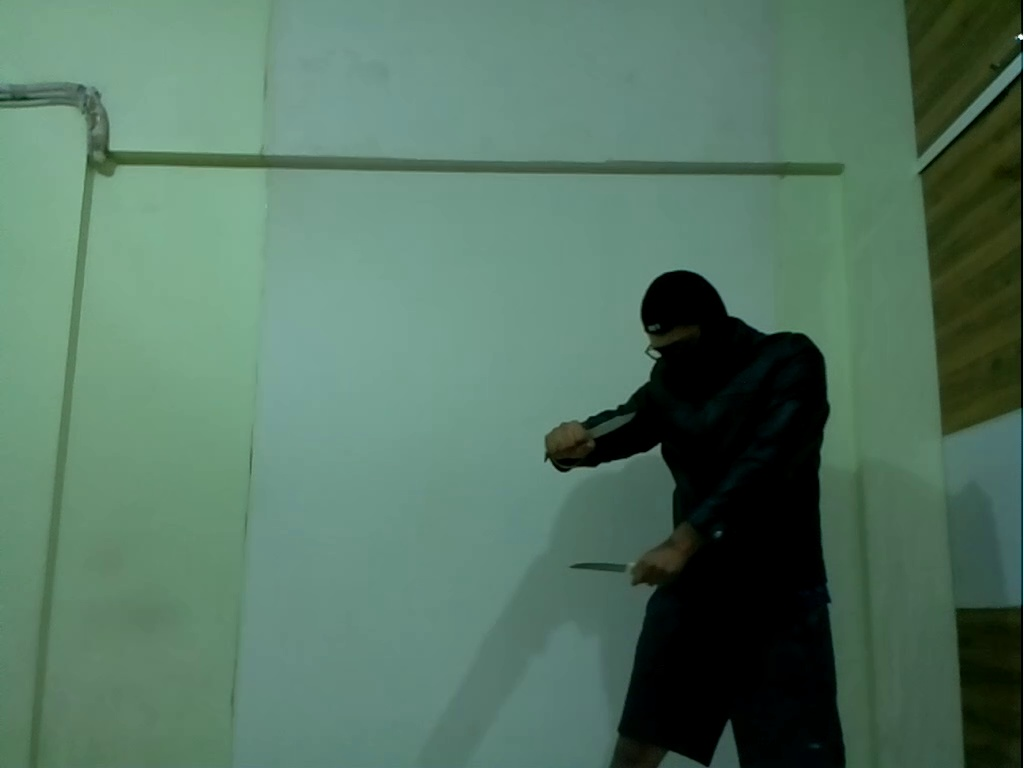knife: (570, 410, 647, 452), (564, 558, 654, 580)
